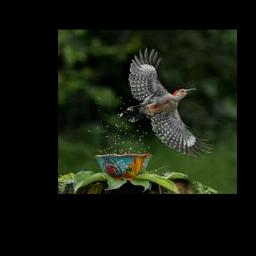Woodpecker: (122, 48, 213, 157)
